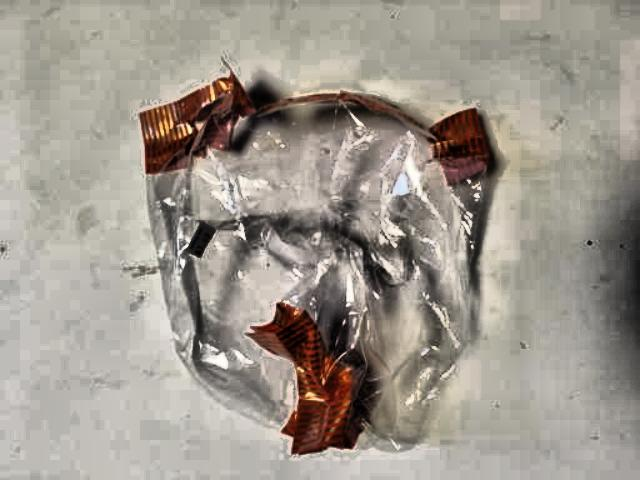Plastic: (108, 50, 506, 461)
